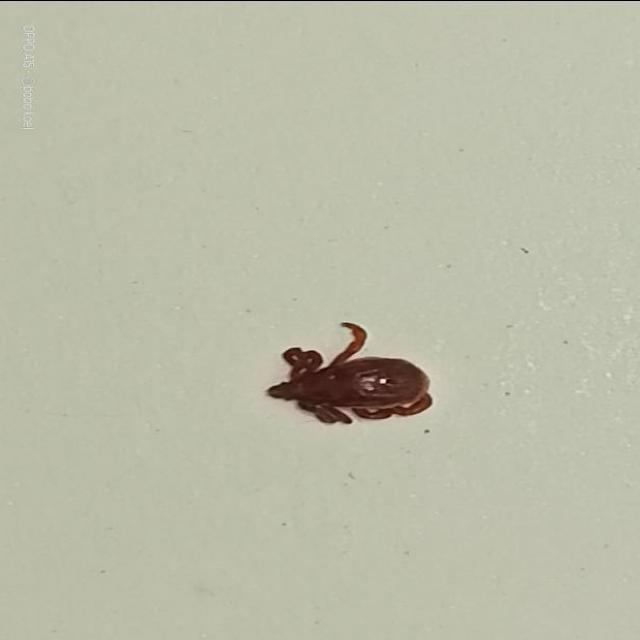Rhipicephalus Sanguineus-M: (263, 327, 433, 426)
